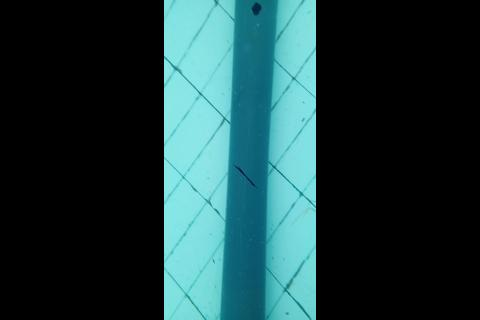kebocoran: (250, 1, 262, 16)
keretakan: (232, 162, 258, 190)
